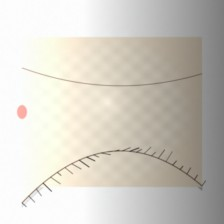pinguecula_lesion: (143, 94, 173, 118)
